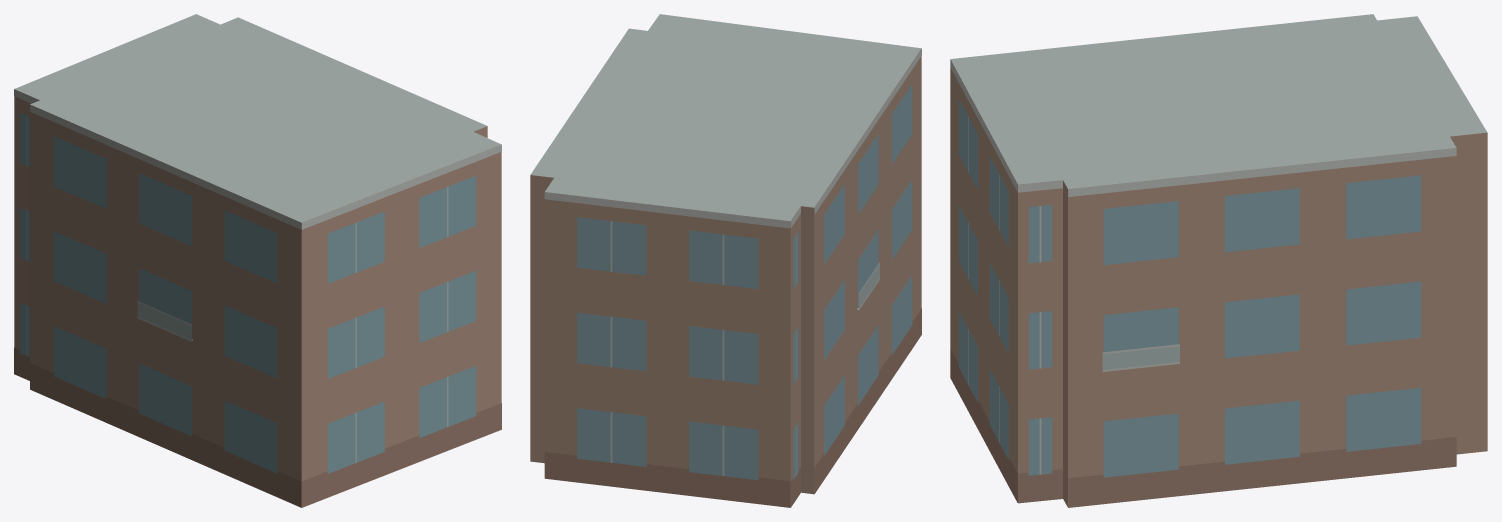
The model's file is survey-upis-32826918.glb.
The picture shows the model from 3 angles, left to right: view 1: azimuth 30°, elevation 25°; view 2: azimuth 150°, elevation 25°; view 3: azimuth 270°, elevation 25°; orthographic projection. The views are drawn at different scales.
Visible parts, largest first — view 1: survey-upis-32826918.tmp; view 2: survey-upis-32826918.tmp; view 3: survey-upis-32826918.tmp.
Part boxes in pixels (left/top/right/bottom): survey-upis-32826918.tmp: left=14, top=14, right=501, bottom=507; survey-upis-32826918.tmp: left=530, top=14, right=921, bottom=507; survey-upis-32826918.tmp: left=950, top=14, right=1487, bottom=507.
Size of the model in its own units: 11.45 by 9.7 by 14.83.
